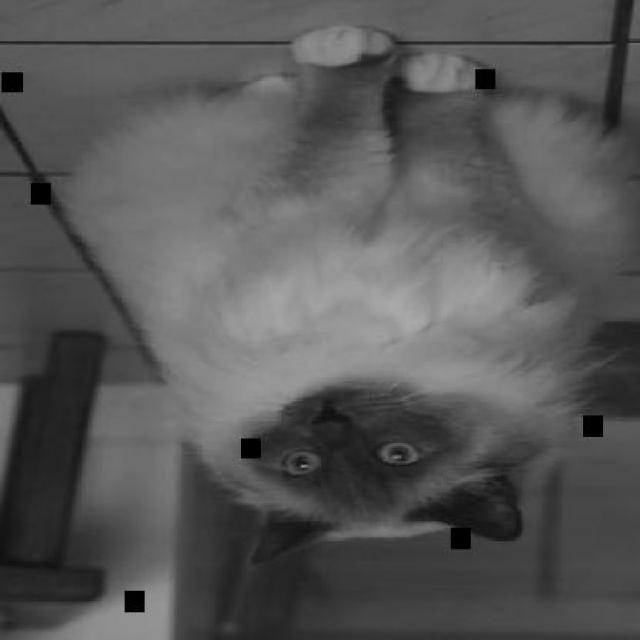cat: (65, 25, 628, 567)
